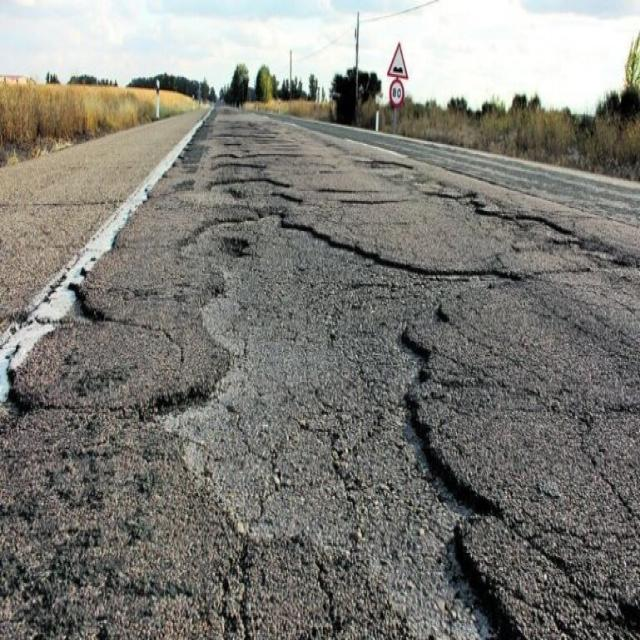pothole: (162, 125, 511, 613)
